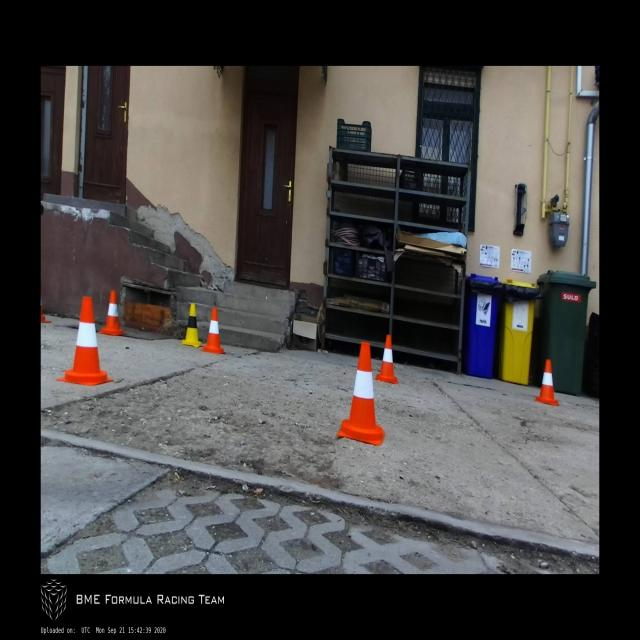orange_cone: (56, 296, 114, 386), (337, 342, 385, 446), (98, 290, 126, 336), (200, 307, 226, 354), (534, 359, 559, 406), (376, 335, 398, 384)
yellow_cone: (182, 303, 202, 347)
